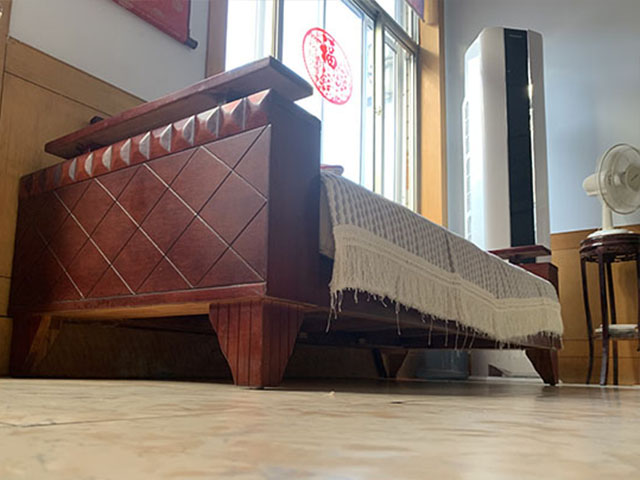sofa: (8, 54, 571, 390)
